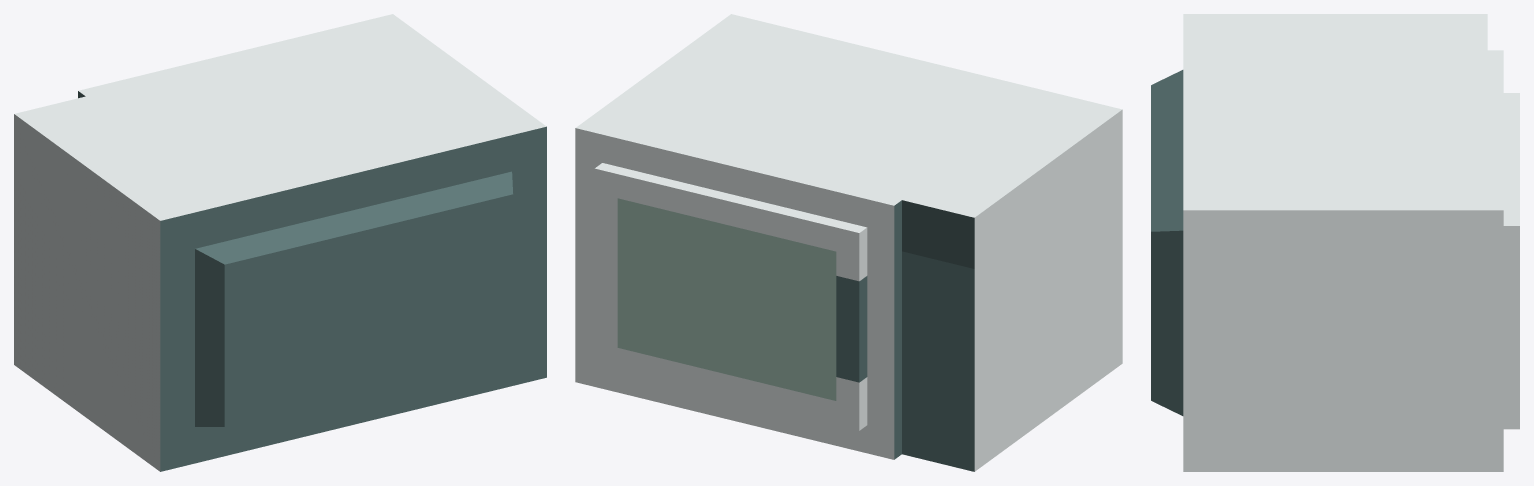
File: microwave.glb
3 renders of one model, left to right at view 1: azimuth 30°, elevation 25°; view 2: azimuth 150°, elevation 25°; view 3: azimuth 270°, elevation 25°, orthographic. The views are drawn at different scales.
Parts seen in each view (by area): view 1: kitchenMicrowave; view 2: kitchenMicrowave, Group; view 3: kitchenMicrowave, Group.
Boxes of the visible parts, bbox=[...] form: kitchenMicrowave: bbox=[14, 14, 546, 471]; kitchenMicrowave: bbox=[575, 14, 1122, 471]; Group: bbox=[594, 163, 867, 430]; kitchenMicrowave: bbox=[1151, 14, 1503, 471]; Group: bbox=[1503, 93, 1519, 429].
Bounding box in the file's own units: 0.5 × 0.3103 × 0.3966.
